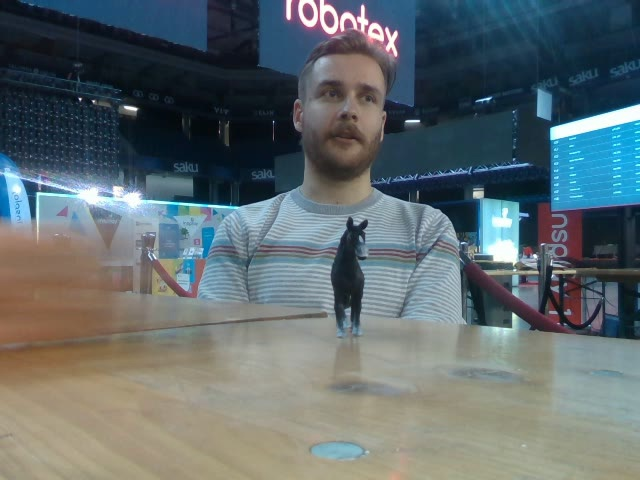toy: (330, 218, 367, 338)
